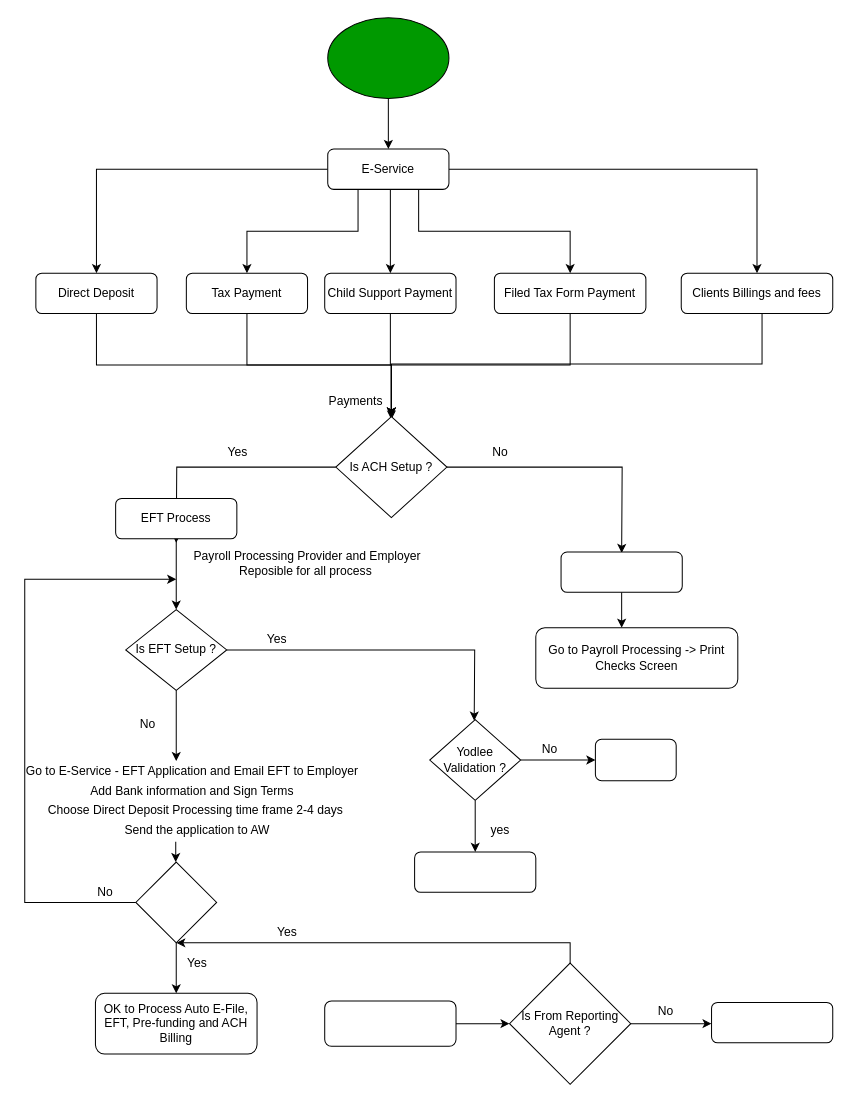
Some shapes in this 850 by 1102 pixel diagram are drawn without their labels. The shapes that lost their labels are listed below. From the top down, each one's box as (x1, y1, x2, y2) in pixels, then its label:
(327, 17, 449, 98): Start
(560, 551, 682, 592): Checks
(594, 738, 676, 781): Reject
(414, 851, 536, 892): Payment Process API (Stripe)
(135, 861, 217, 943): Is Approve ?
(324, 1000, 456, 1046): E-File Tax Froms
(711, 1001, 833, 1043): Submit Signed 8655 From to IRS
